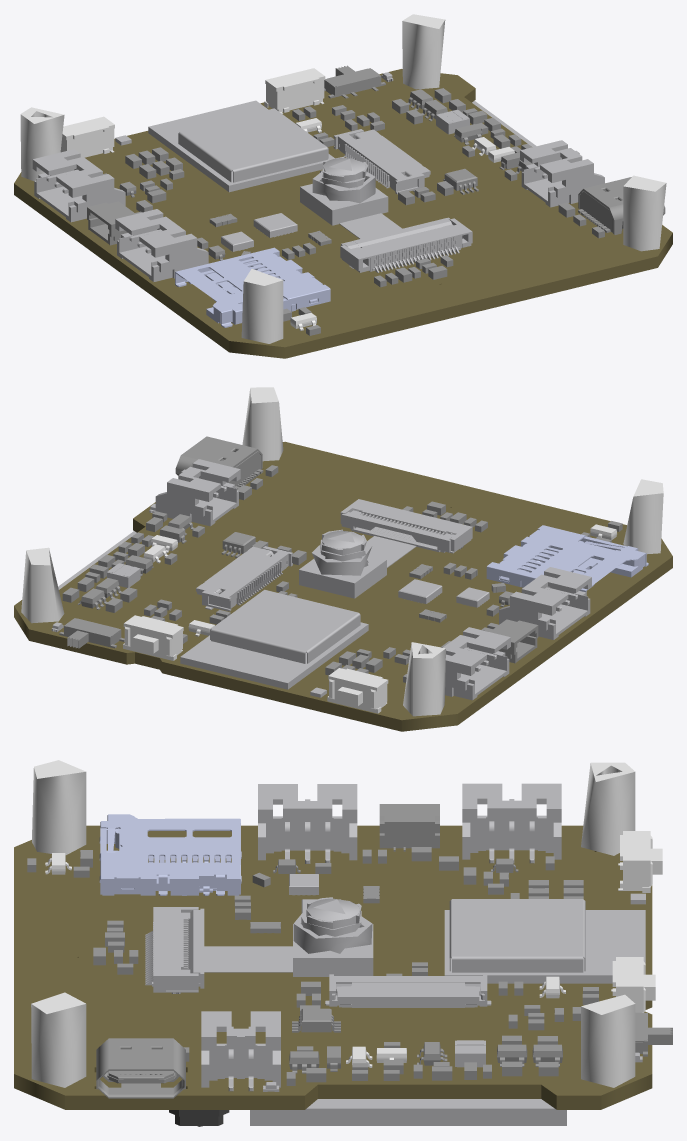
Rendered from ada-5420.glb.
3 renders of one model, top to bottom at view 1: azimuth 30°, elevation 25°; view 2: azimuth 150°, elevation 25°; view 3: azimuth 270°, elevation 25°, orthographic. The views are drawn at different scales.
Parts seen in each view (by area): view 1: 0.16666666666666666_0.16666666666666666_0.08333333333333333_, 0.5833333333333334_0.5833333333333334_0.5833333333333334_0.8, 0.3333333333333333_0.3333333333333333_0.3333333333333333_0, 0.9166666666666666_0.9166666666666666_0.9166666666666666_0.8, 0.5833333333333334_0.6666666666666666_0.8333333333333334_0; view 2: 0.16666666666666666_0.16666666666666666_0.08333333333333333_, 0.5833333333333334_0.5833333333333334_0.5833333333333334_0.8, 0.9166666666666666_0.9166666666666666_0.9166666666666666_0.8, 0.3333333333333333_0.3333333333333333_0.3333333333333333_0, 0.5833333333333334_0.6666666666666666_0.8333333333333334_0; view 3: 0.16666666666666666_0.16666666666666666_0.08333333333333333_, 0.5833333333333334_0.5833333333333334_0.5833333333333334_0.8, 0.3333333333333333_0.3333333333333333_0.3333333333333333_0, 0.9166666666666666_0.9166666666666666_0.9166666666666666_0.8, 0.5833333333333334_0.6666666666666666_0.8333333333333334_0, 0.08333333333333333_0.08333333333333333_0.08333333333333333_.
Boxes of the visible parts, <box> form: 0.16666666666666666_0.16666666666666666_0.08333333333333333_: <box>14,69,672,358</box>; 0.5833333333333334_0.5833333333333334_0.5833333333333334_0.8: <box>32,72,604,281</box>; 0.3333333333333333_0.3333333333333333_0.3333333333333333_0: <box>87,65,665,335</box>; 0.9166666666666666_0.9166666666666666_0.9166666666666666_0.8: <box>20,14,666,343</box>; 0.5833333333333334_0.6666666666666666_0.8333333333333334_0: <box>175,247,330,327</box>; 0.16666666666666666_0.16666666666666666_0.08333333333333333_: <box>14,441,672,731</box>; 0.5833333333333334_0.5833333333333334_0.5833333333333334_0.8: <box>51,459,591,700</box>; 0.9166666666666666_0.9166666666666666_0.9166666666666666_0.8: <box>21,387,663,716</box>; 0.3333333333333333_0.3333333333333333_0.3333333333333333_0: <box>59,436,622,682</box>; 0.5833333333333334_0.6666666666666666_0.8333333333333334_0: <box>486,525,648,595</box>; 0.16666666666666666_0.16666666666666666_0.08333333333333333_: <box>14,825,652,1109</box>; 0.5833333333333334_0.5833333333333334_0.5833333333333334_0.8: <box>145,783,645,1125</box>; 0.3333333333333333_0.3333333333333333_0.3333333333333333_0: <box>27,804,672,1098</box>; 0.9166666666666666_0.9166666666666666_0.9166666666666666_0.8: <box>31,760,662,1087</box>; 0.5833333333333334_0.6666666666666666_0.8333333333333334_0: <box>99,814,241,895</box>; 0.08333333333333333_0.08333333333333333_0.08333333333333333_: <box>169,1110,229,1126</box>.
Size of the model in its own units: 6.42 by 1.46 by 6.55.
